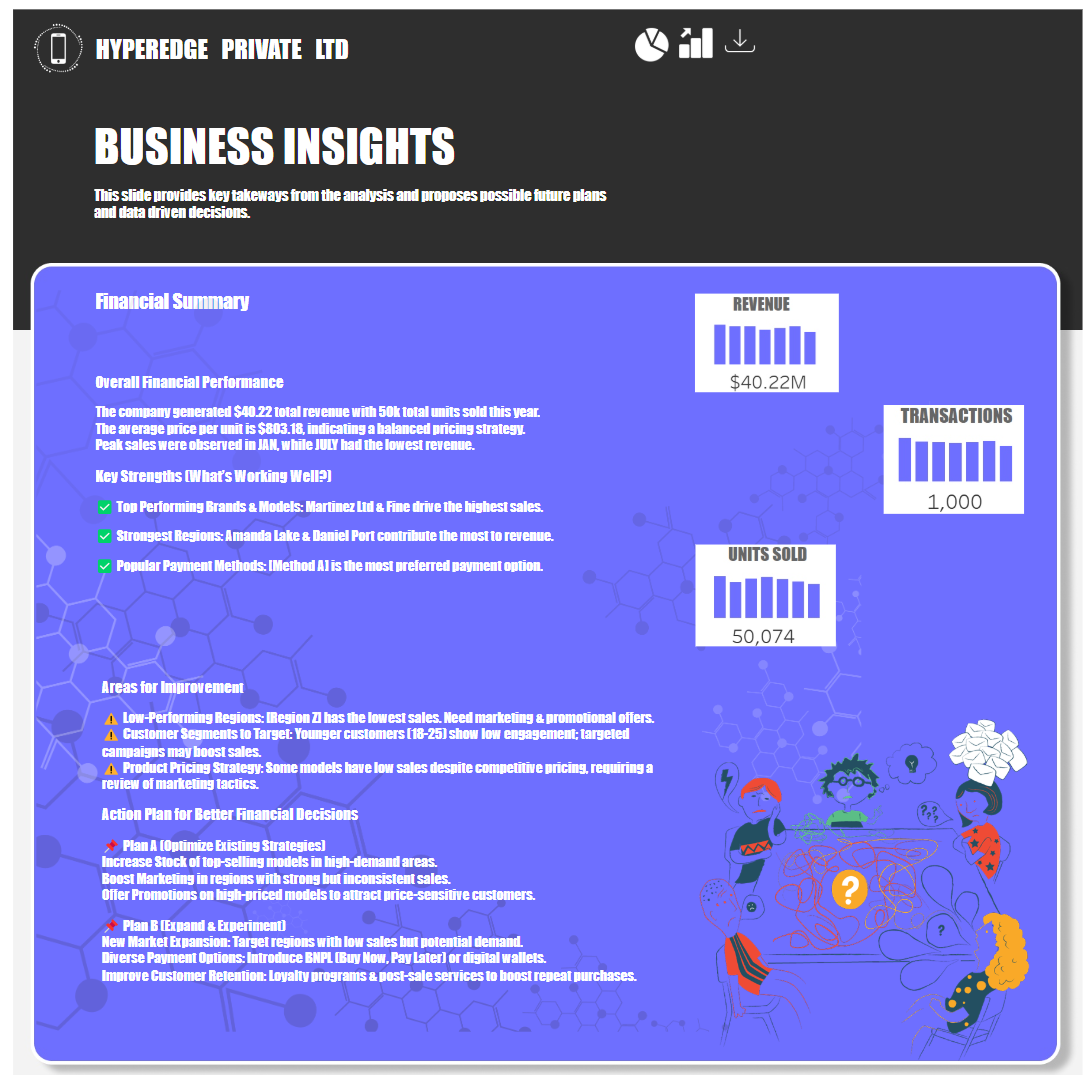

Layout of this report page (visuals, bound fields, positions):
{"tool":"tableau","page":{"name":"BUSINESS INSIGHT","canvas":[1500,1500],"ordinal":0},"visuals":[{"type":"image","param":"Image/Gada Electronics.png","box":[8,8,1484,1484]},{"type":"image","param":"Image/[CITYPNG.COM]HD White Phone Outline Logo Transparent PNG - 2000x2000.png","box":[18,11,117,116]},{"type":"dashboard-object","box":[982,30,66,52]},{"type":"dashboard-object","box":[928,36,53,46]},{"type":"dashboard-object","box":[869,39,48,46]},{"type":"text","box":[127,43,461,53]},{"type":"text","box":[124,132,729,204]},{"type":"image","param":"Image/favpng_desktop-wallpaper-information-data-analysis.png","box":[44,376,1397,1071]},{"type":"text","box":[126,380,763,547]},{"type":"text","box":[126,395,266,41]},{"type":"image","param":"Image/Screenshot 2025-04-11 195529.png","box":[918,404,269,137]},{"type":"image","param":"Image/Screenshot 2025-04-11 195639.png","box":[1176,558,268,151]},{"type":"image","param":"Image/Screenshot 2025-04-11 195633.png","box":[944,751,213,140]},{"type":"text","box":[135,842,811,608]}]}

Visuals, with their boxes on the page's 1500x1500 design canvas (x1, y1, x2, y2). These are canvas units, not pixel positions in the 1087x1075 screenshot, which may show the page scaled, cropped or inside an application window:
image: x1=8 y1=8 x2=1492 y2=1492
image: x1=18 y1=11 x2=135 y2=127
dashboard-object: x1=982 y1=30 x2=1048 y2=82
dashboard-object: x1=928 y1=36 x2=981 y2=82
dashboard-object: x1=869 y1=39 x2=917 y2=85
text: x1=127 y1=43 x2=588 y2=96
text: x1=124 y1=132 x2=853 y2=336
image: x1=44 y1=376 x2=1441 y2=1447
text: x1=126 y1=380 x2=889 y2=927
text: x1=126 y1=395 x2=392 y2=436
image: x1=918 y1=404 x2=1187 y2=541
image: x1=1176 y1=558 x2=1444 y2=709
image: x1=944 y1=751 x2=1157 y2=891
text: x1=135 y1=842 x2=946 y2=1450
